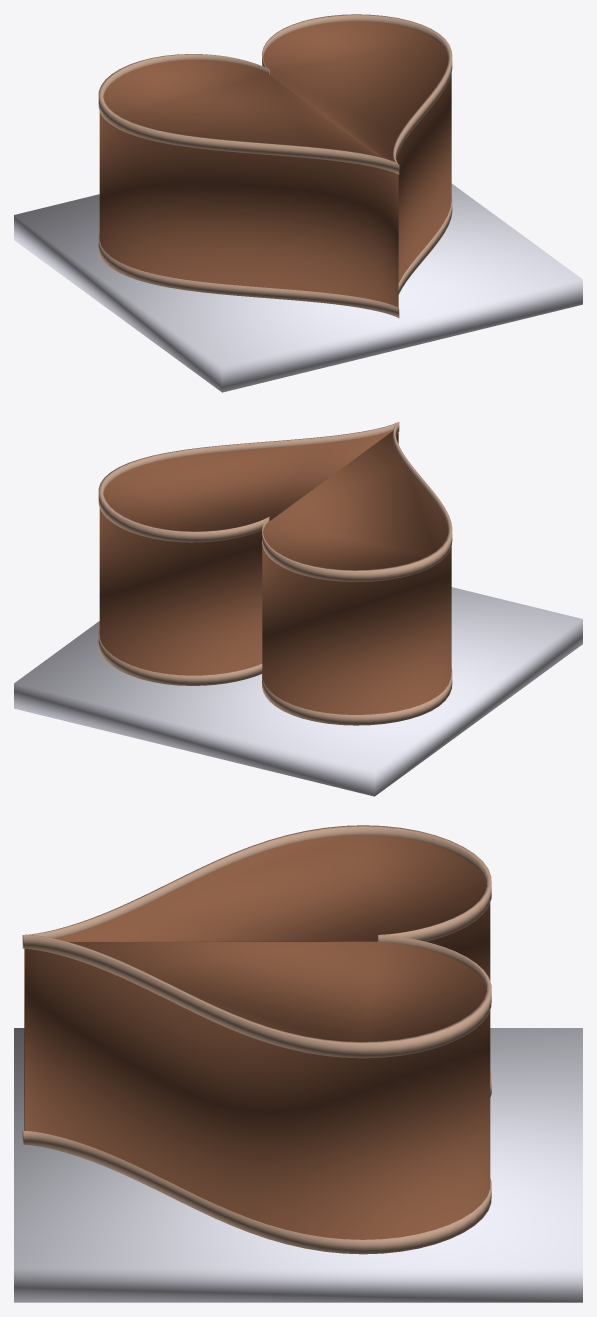
Rendered from heart_chocolate.glb.
3 views of the same model, one above another, from view 1: azimuth 30°, elevation 25°; view 2: azimuth 150°, elevation 25°; view 3: azimuth 270°, elevation 25° (orthographic). The views are drawn at different scales.
Visible parts, largest first — view 1: HeartCake, IcingStand, IcingRing, IcingRing.001; view 2: HeartCake, IcingStand, IcingRing, IcingRing.001; view 3: HeartCake, IcingStand, IcingRing, IcingRing.001.
Boxes of the visible parts, x1,y1,x2,y2 form: HeartCake: (99,21,451,307); IcingStand: (14,183,582,392); IcingRing: (98,14,452,174); IcingRing.001: (98,194,452,317); HeartCake: (99,430,451,714); IcingStand: (14,587,582,796); IcingRing: (98,422,452,581); IcingRing.001: (98,630,452,725); HeartCake: (24,834,490,1239); IcingStand: (14,1028,582,1302); IcingRing: (22,825,491,1058); IcingRing.001: (22,1070,491,1254).
Size of the model in its own units: 3 by 1.44 by 3.
